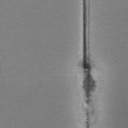slag inclusion: (80, 0, 96, 104), (84, 108, 91, 128)
